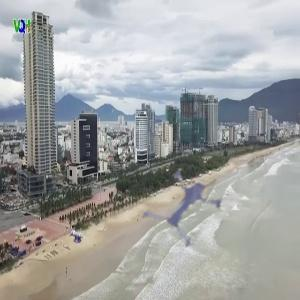drone: (142, 151, 240, 249)
